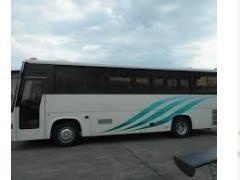bus: (13, 58, 216, 148)
